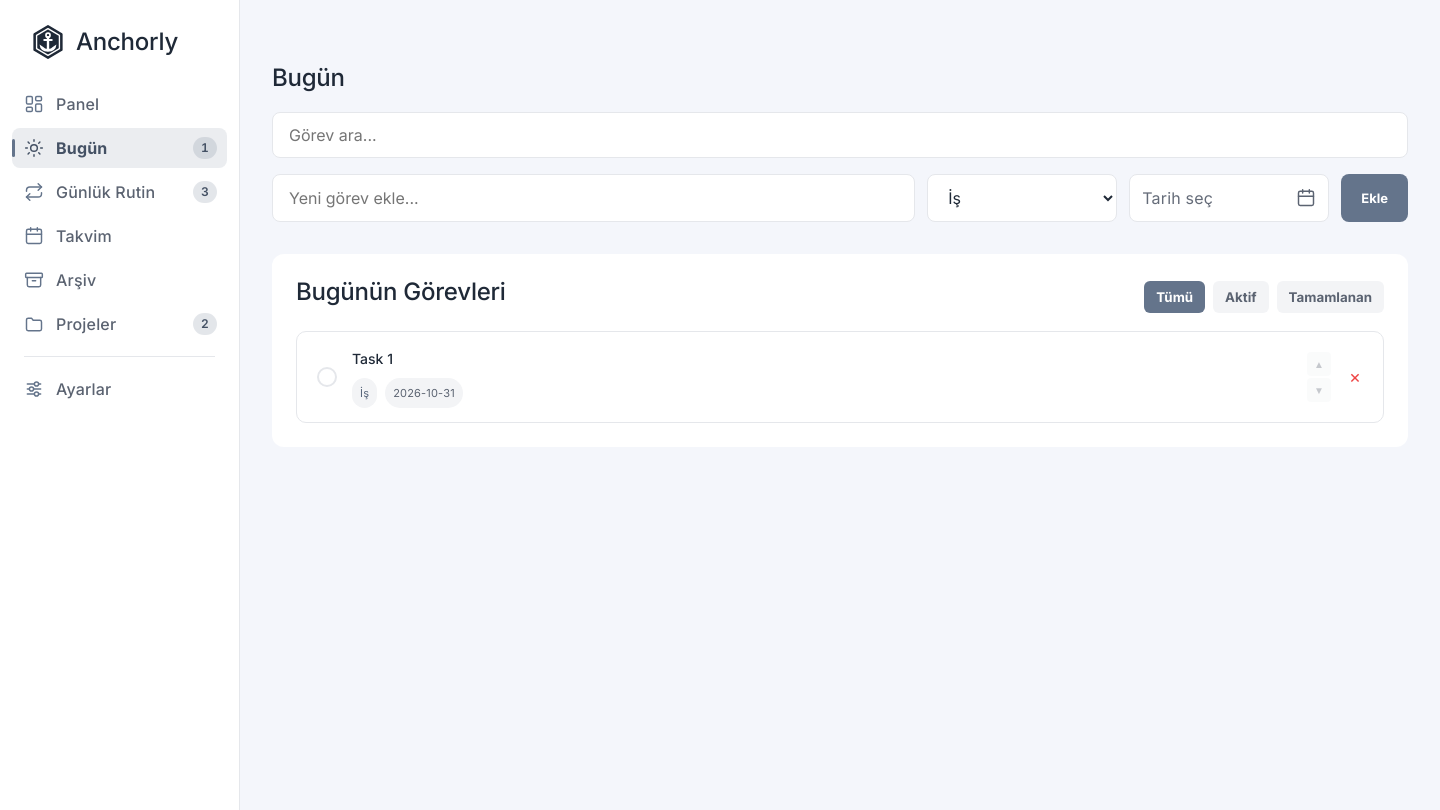
task detail dialog labels › uses Turkish labels when the language is Turkish
What coordinates should you click on to do the following:
click the button "Task 1"
I would click on:
 (372, 359)
Its box is [352,346,393,372].
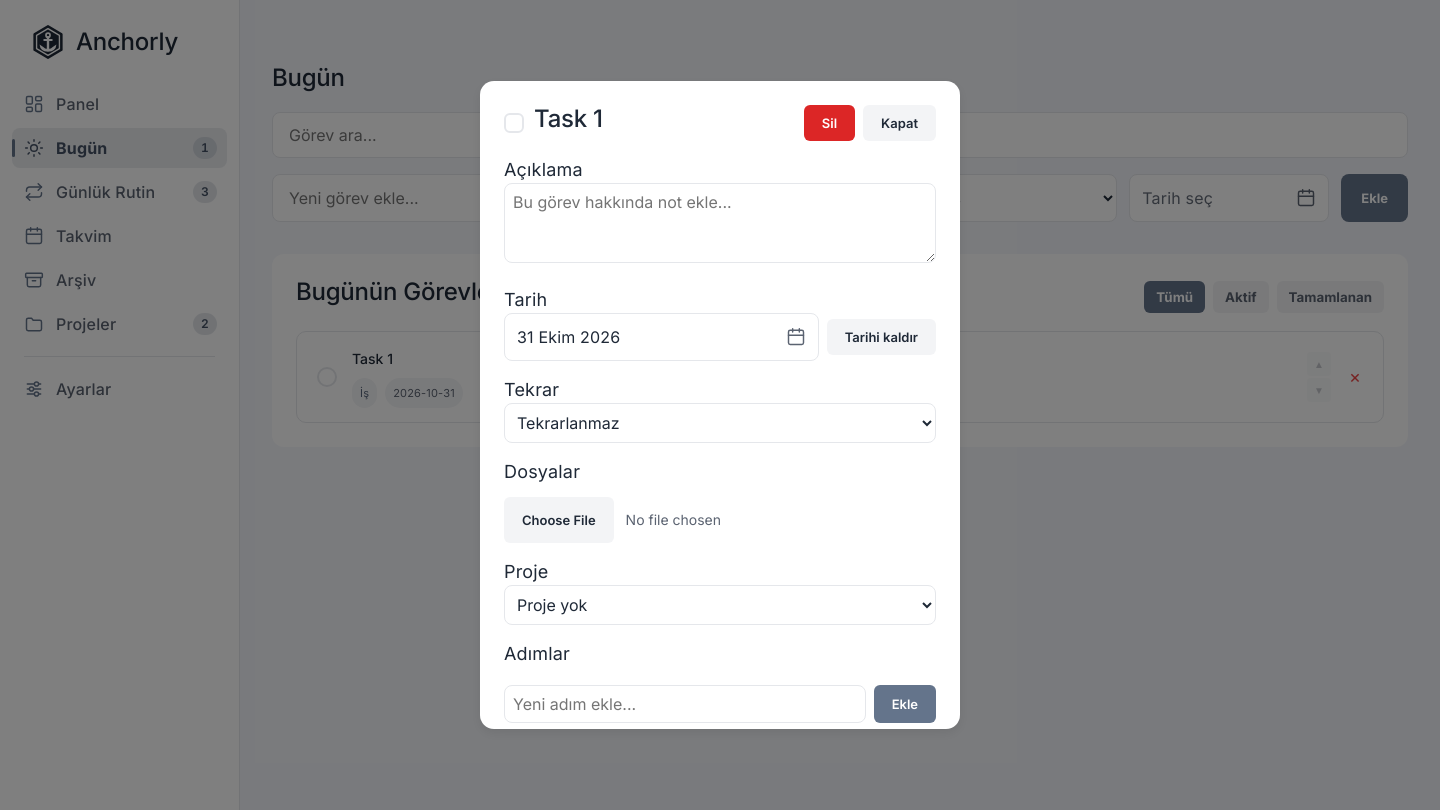
Expected: the text box labelled "Açıklama" is shown, [504,183,936,263]
Expected: the field named "Yeni adım" is shown, [504,685,866,723]
